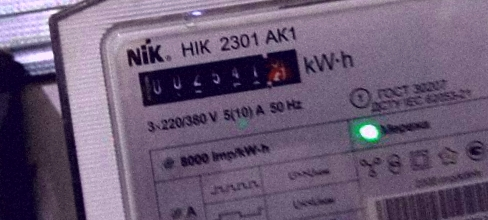0: (147, 73, 163, 95), (168, 68, 183, 90)
1: (246, 58, 260, 79)
2: (188, 66, 202, 88)
4: (227, 59, 242, 82)
5: (206, 62, 221, 86)
6: (270, 66, 283, 83)
screen: (125, 36, 313, 116)
